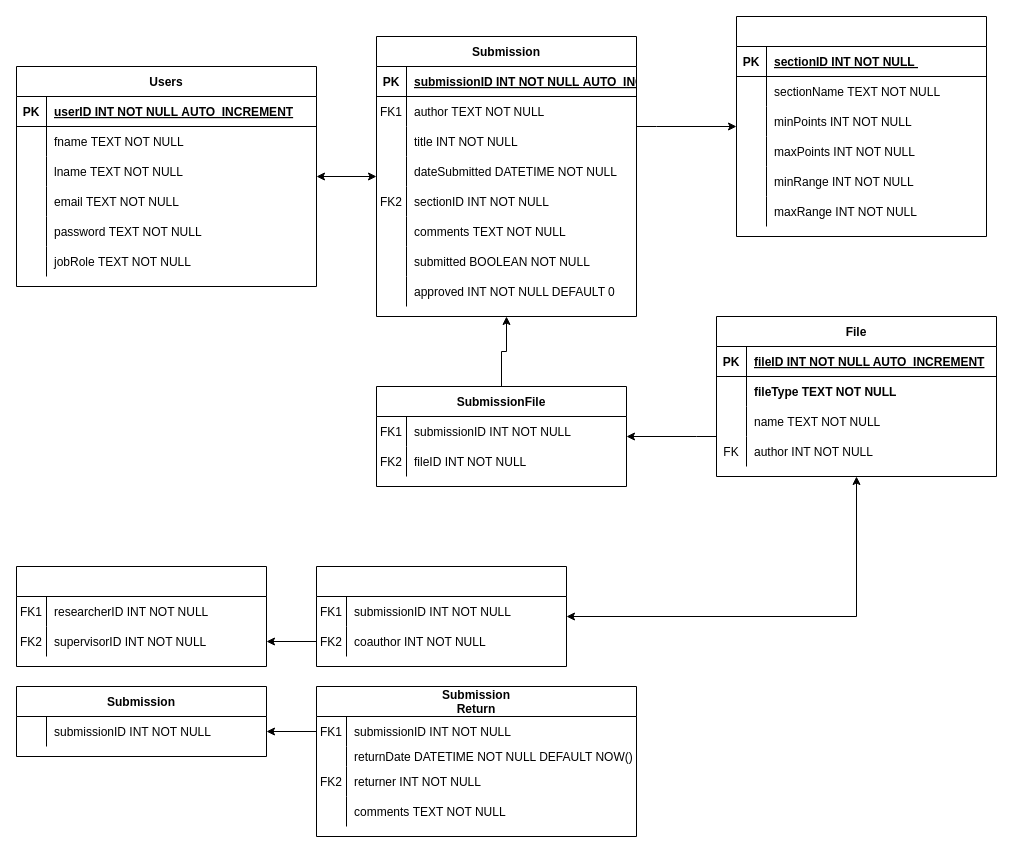
The diagram is 1013 pixels wide and 853 high, and some of its shapes have lost their labels. The box of each missing label's shape, as (x1, y1, x2, y2) in pixels:
Researchers Supervisor: (16, 566, 266, 666)
Sections: (736, 16, 986, 236)
Submission Coauthor: (316, 566, 566, 666)
